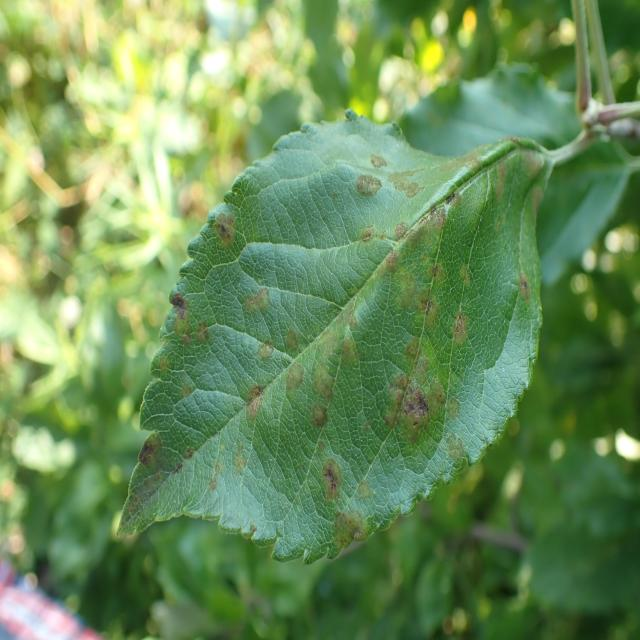scab: (133, 88, 545, 540)
